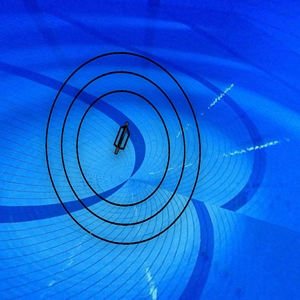circle: (42, 49, 205, 249)
submarine: (108, 117, 137, 161)
